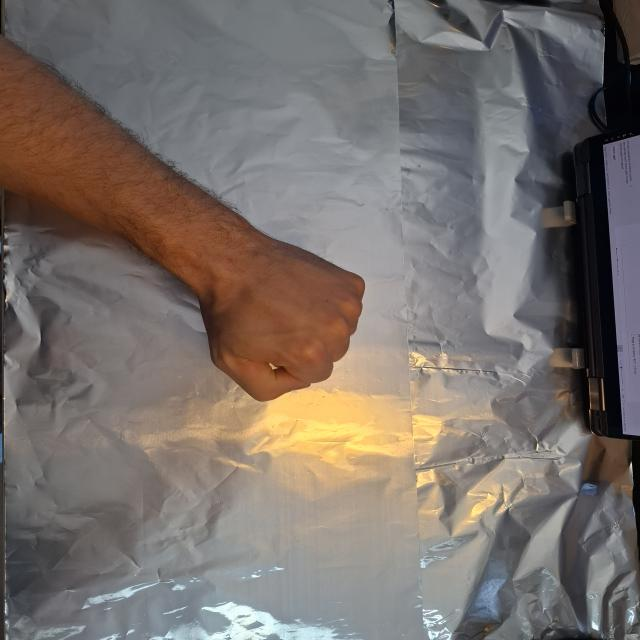glove_off: (182, 228, 368, 404)
